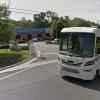Bus: (57, 23, 100, 94)
